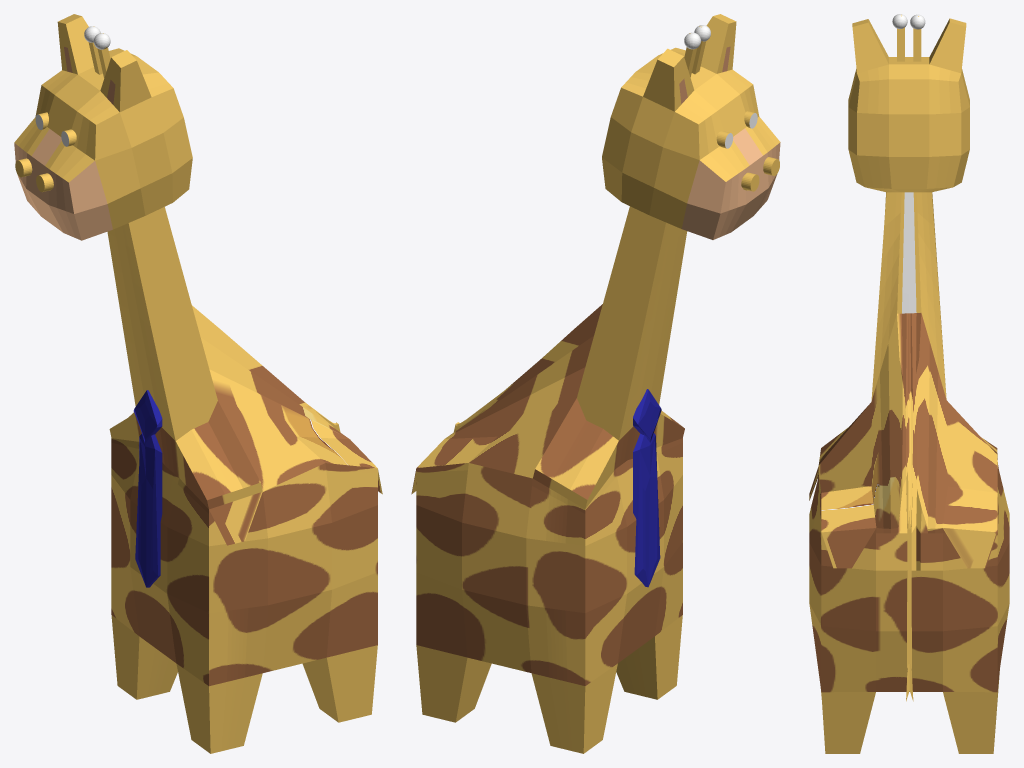
The model's file is rafrafwalking_stropdas.gltf.
3 renders of one model, left to right at view 1: azimuth 30°, elevation 25°; view 2: azimuth 150°, elevation 25°; view 3: azimuth 270°, elevation 25°, orthographic. The views are drawn at different scales.
Visible parts, largest first — view 1: Cube, Cube.002, Cube.008, Cube.001, Cube.003; view 2: Cube, Cube.003, Cube.008, Cube.004, Cube.002; view 3: Cube, Cube.004, Cube.001.
Boxes of the visible parts, x1,y1,x2,y2 form: Cube: (14,14,382,686); Cube.002: (176,663,262,753); Cube.008: (133,390,162,587); Cube.001: (302,645,377,722); Cube.003: (111,615,177,699); Cube: (411,14,780,685); Cube.003: (531,663,617,753); Cube.008: (633,389,661,587); Cube.004: (416,645,491,722); Cube.002: (616,615,682,699); Cube: (809,14,1009,701); Cube.004: (943,670,999,753); Cube.001: (820,688,875,753).
Size of the model in its own units: 3.61 by 7.03 by 2.
7 materials, 2 textured.
